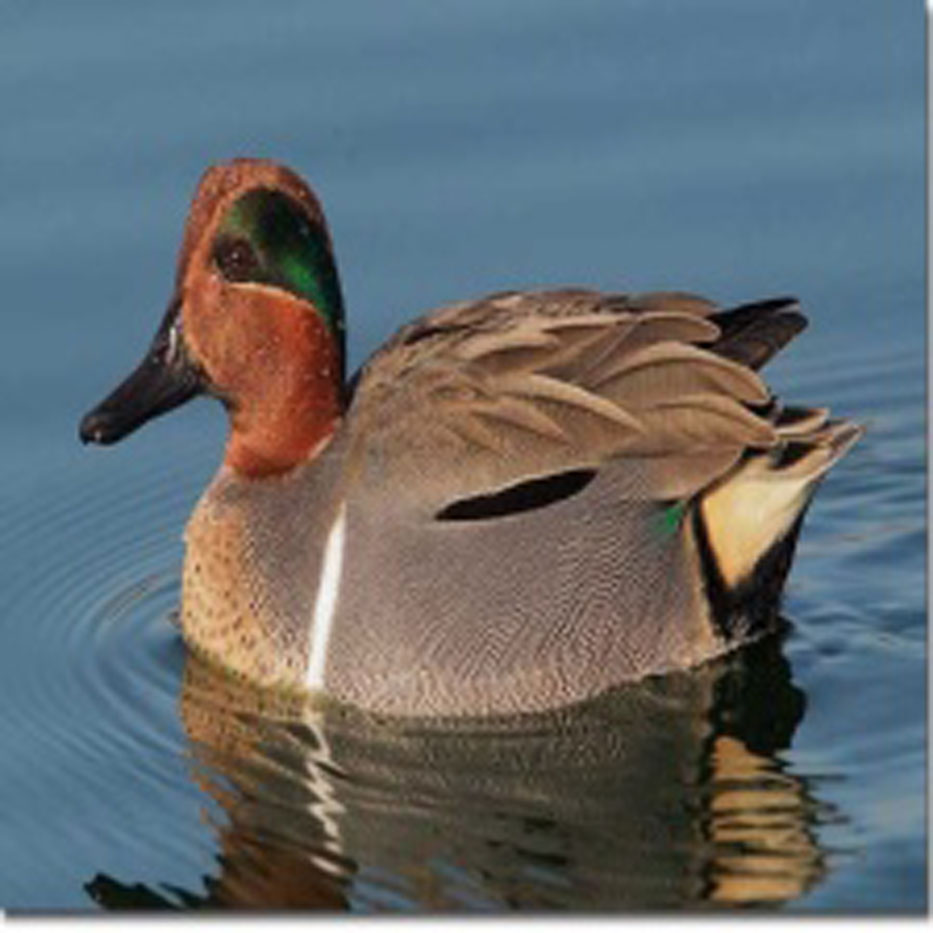Mencari Makan di Lumpur: (57, 315, 200, 471)
